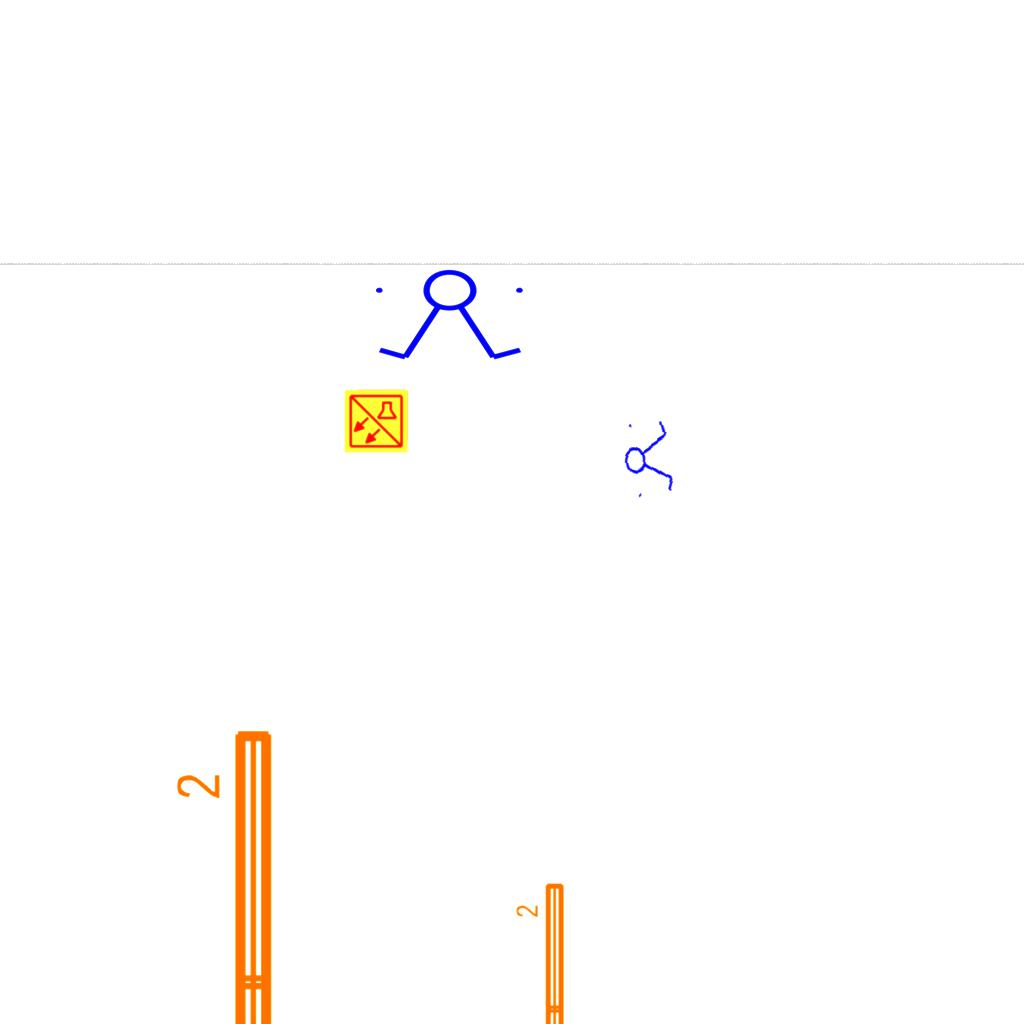Ambulanz_Pendelleuchte_LED: (172, 722, 284, 1024), (514, 879, 570, 1024)
OKW_Multisensormelder_(Kombination_optischer_Rauch-Kahlenmonoxid_Waerme-Melder): (343, 388, 409, 454)
Serienschalter: (367, 268, 535, 364), (618, 413, 678, 503)
